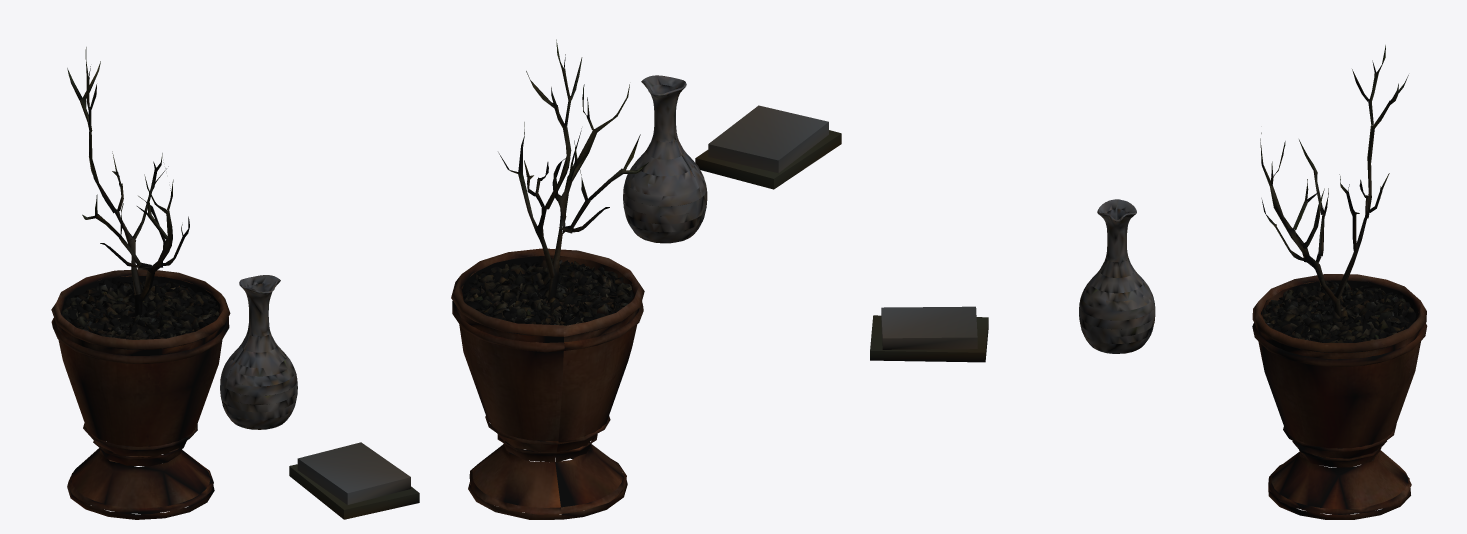
The model's file is decor-hall.glb.
The picture shows the model from 3 angles, left to right: view 1: azimuth 30°, elevation 25°; view 2: azimuth 150°, elevation 25°; view 3: azimuth 270°, elevation 25°; orthographic projection. The views are drawn at different scales.
Parts seen in each view (by area): view 1: V|decor|ldk|wooden_bowl_01:a.027, V|decor|ldk|wooden_bowl_01:a.026, V|decor|ldk|wooden_bowl_01:a.025, V|decor|ldk|wooden_bowl_01:a.024; view 2: V|decor|ldk|wooden_bowl_01:a.027, V|decor|ldk|wooden_bowl_01:a.026, V|decor|ldk|wooden_bowl_01:a.025, V|decor|ldk|wooden_bowl_01:a.024; view 3: V|decor|ldk|wooden_bowl_01:a.027, V|decor|ldk|wooden_bowl_01:a.026, V|decor|ldk|wooden_bowl_01:a.025, V|decor|ldk|wooden_bowl_01:a.024.
Part boxes in pixels (<box>): V|decor|ldk|wooden_bowl_01:a.027: <box>51,47,230,519</box>; V|decor|ldk|wooden_bowl_01:a.026: <box>220,275,297,429</box>; V|decor|ldk|wooden_bowl_01:a.025: <box>297,442,410,504</box>; V|decor|ldk|wooden_bowl_01:a.024: <box>289,464,419,519</box>; V|decor|ldk|wooden_bowl_01:a.027: <box>451,39,648,519</box>; V|decor|ldk|wooden_bowl_01:a.026: <box>623,75,707,243</box>; V|decor|ldk|wooden_bowl_01:a.025: <box>708,105,828,173</box>; V|decor|ldk|wooden_bowl_01:a.024: <box>695,130,841,189</box>; V|decor|ldk|wooden_bowl_01:a.027: <box>1252,45,1427,519</box>; V|decor|ldk|wooden_bowl_01:a.026: <box>1079,199,1155,353</box>; V|decor|ldk|wooden_bowl_01:a.025: <box>881,306,977,349</box>; V|decor|ldk|wooden_bowl_01:a.024: <box>870,315,988,362</box>.
Bounding box in the file's own units: 0.5315 × 1.34 × 1.55.
Materials: 5 (3 with a texture image).
